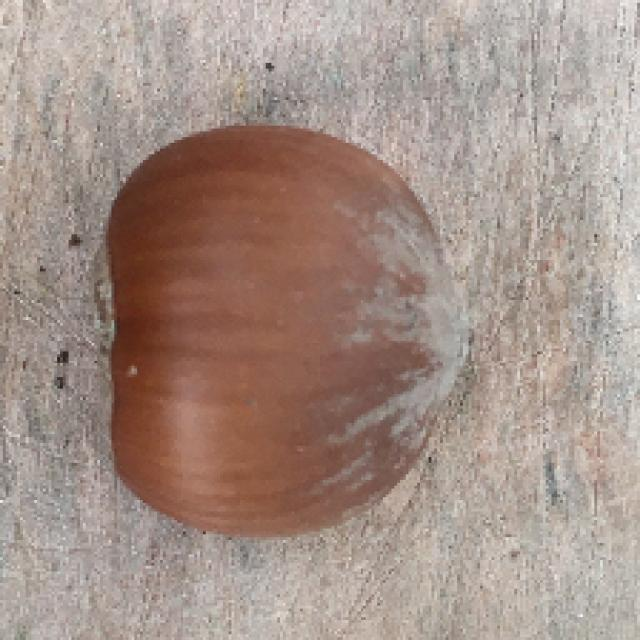damagedHazelnut: (96, 128, 477, 537)
